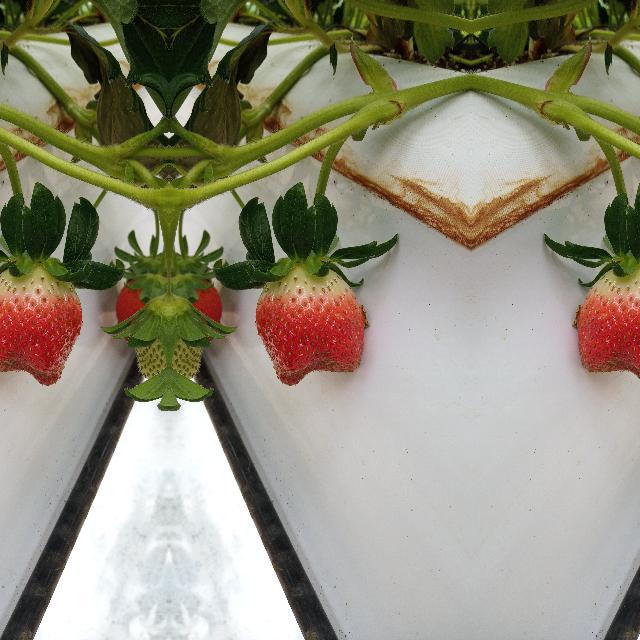Health_100: (254, 260, 364, 386), (0, 260, 82, 386), (577, 260, 640, 386)
